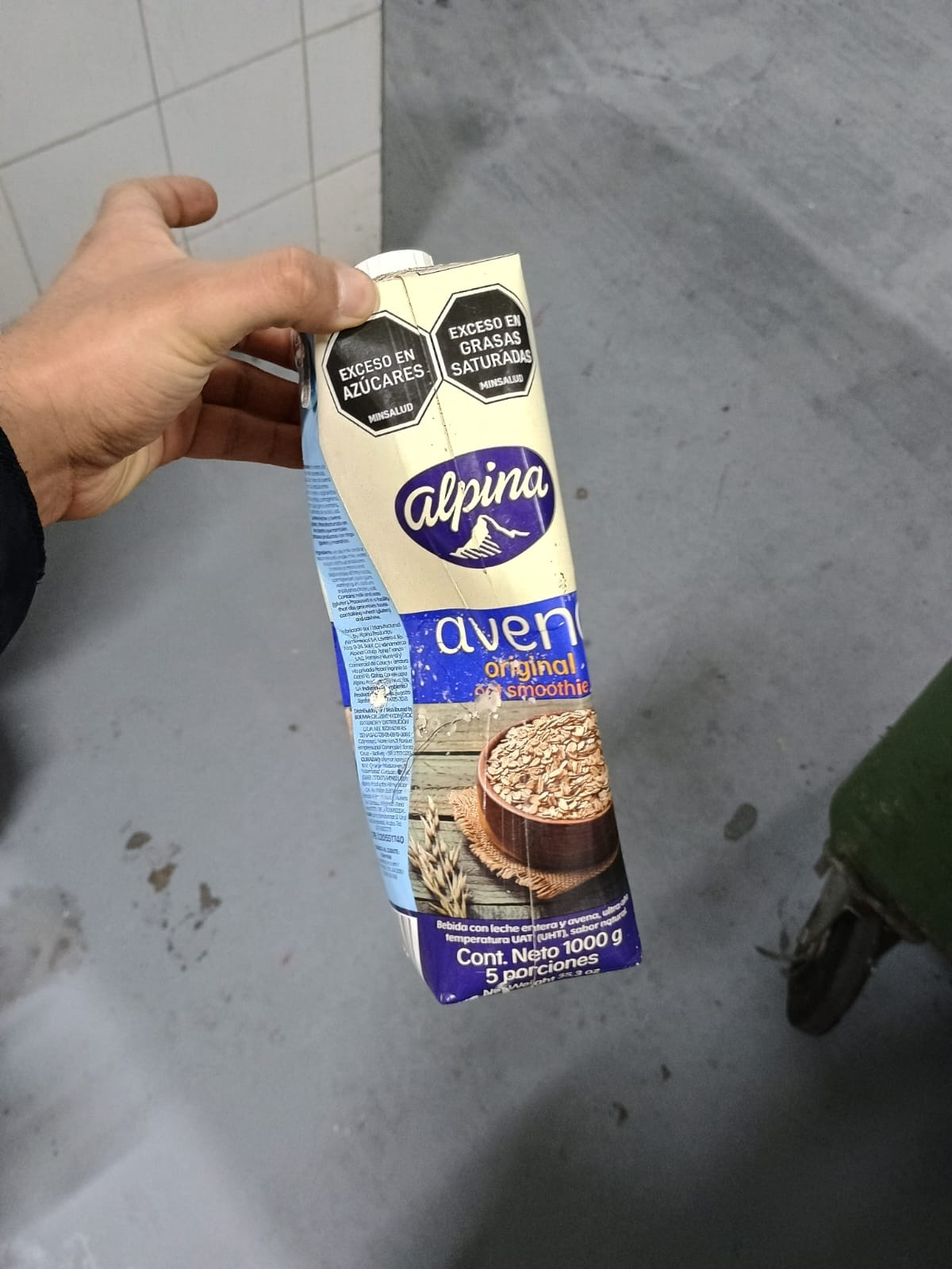Carton: (299, 253, 644, 1011)
